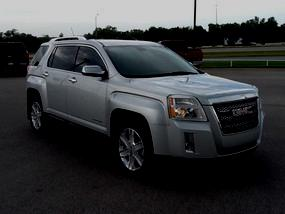GMC: (227, 104, 257, 118)
